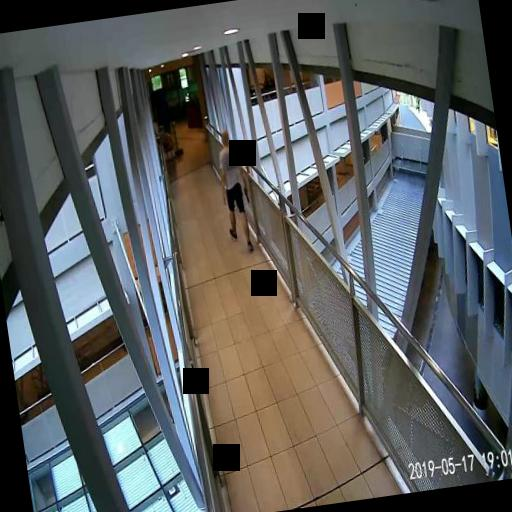Handgun: (242, 185, 248, 200)
